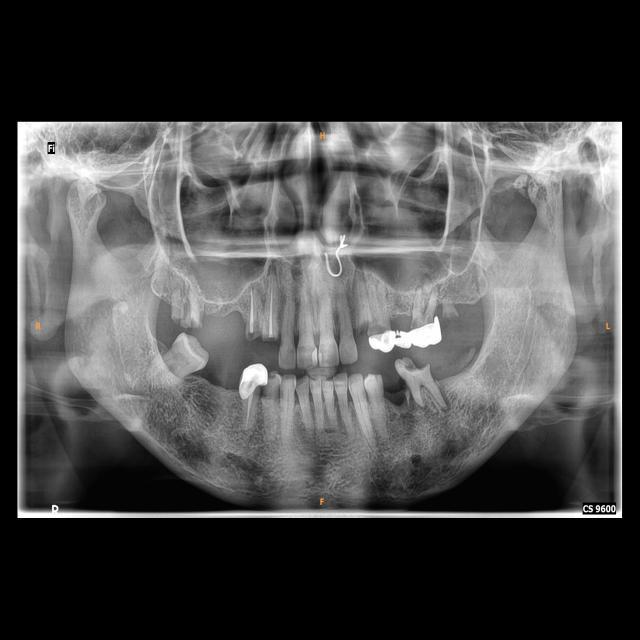dentin-curugu: (398, 357, 430, 376)
kanal-tedavisi: (264, 286, 276, 334), (246, 288, 258, 331), (244, 392, 255, 432)
kaplama: (232, 362, 267, 398), (411, 316, 444, 348), (367, 330, 397, 352)
kirik: (168, 306, 202, 332), (242, 324, 262, 348), (261, 330, 279, 344)
kopru: (394, 320, 412, 352)
